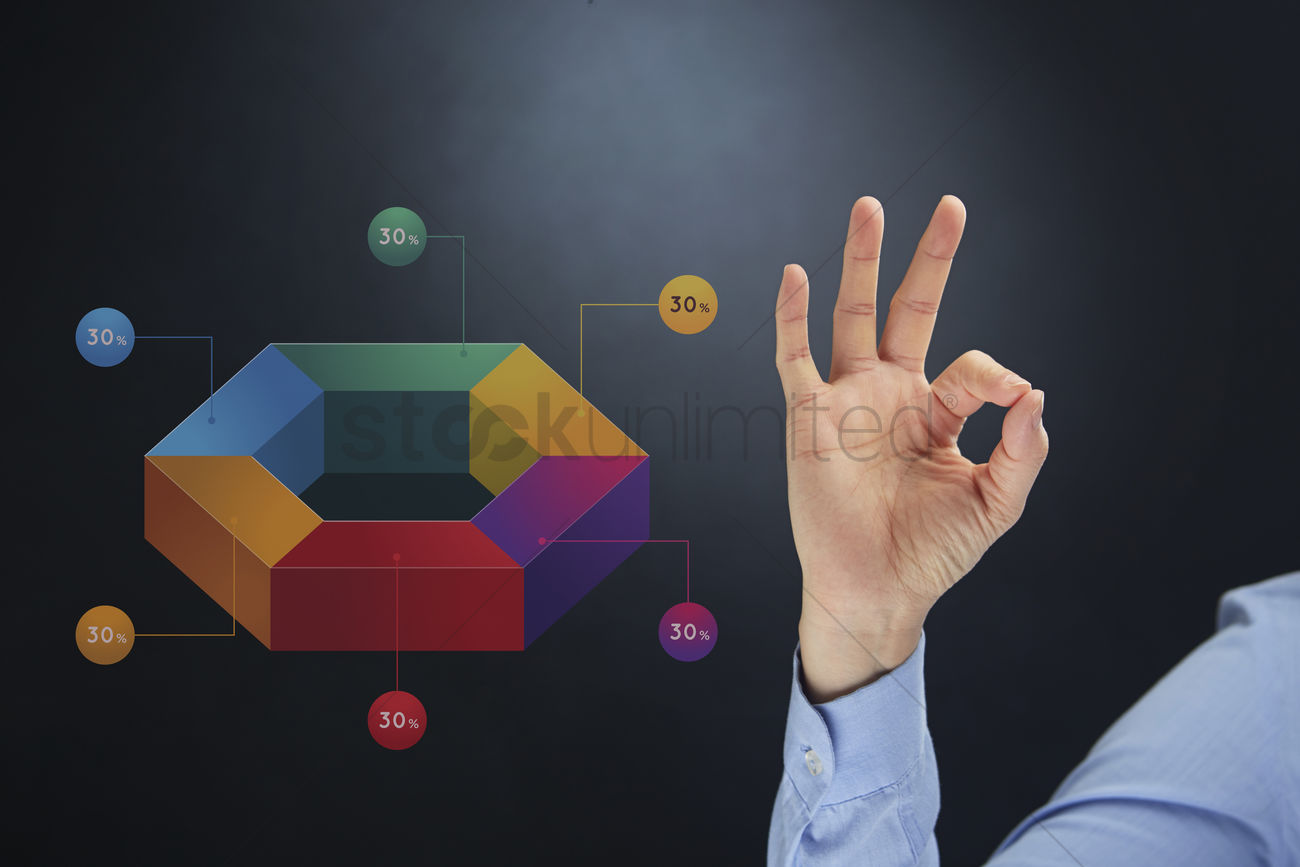oksign: (775, 196, 1054, 618)
